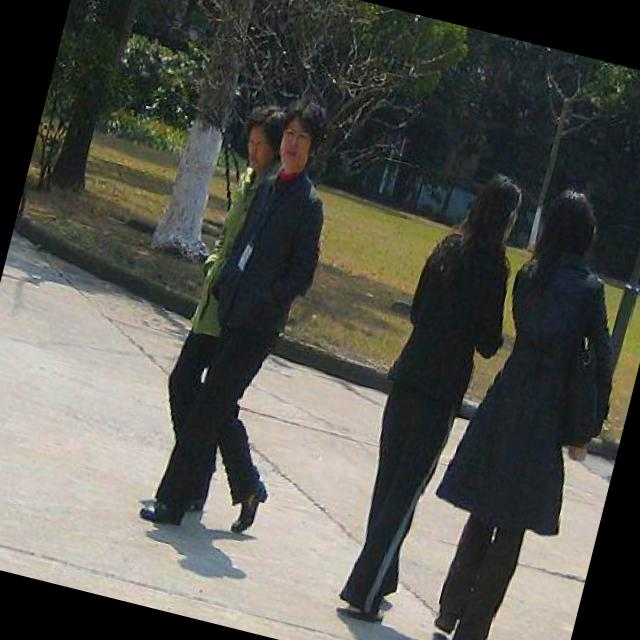Person: (408, 173, 640, 640), (136, 89, 362, 559), (322, 142, 533, 638), (126, 74, 302, 542)
